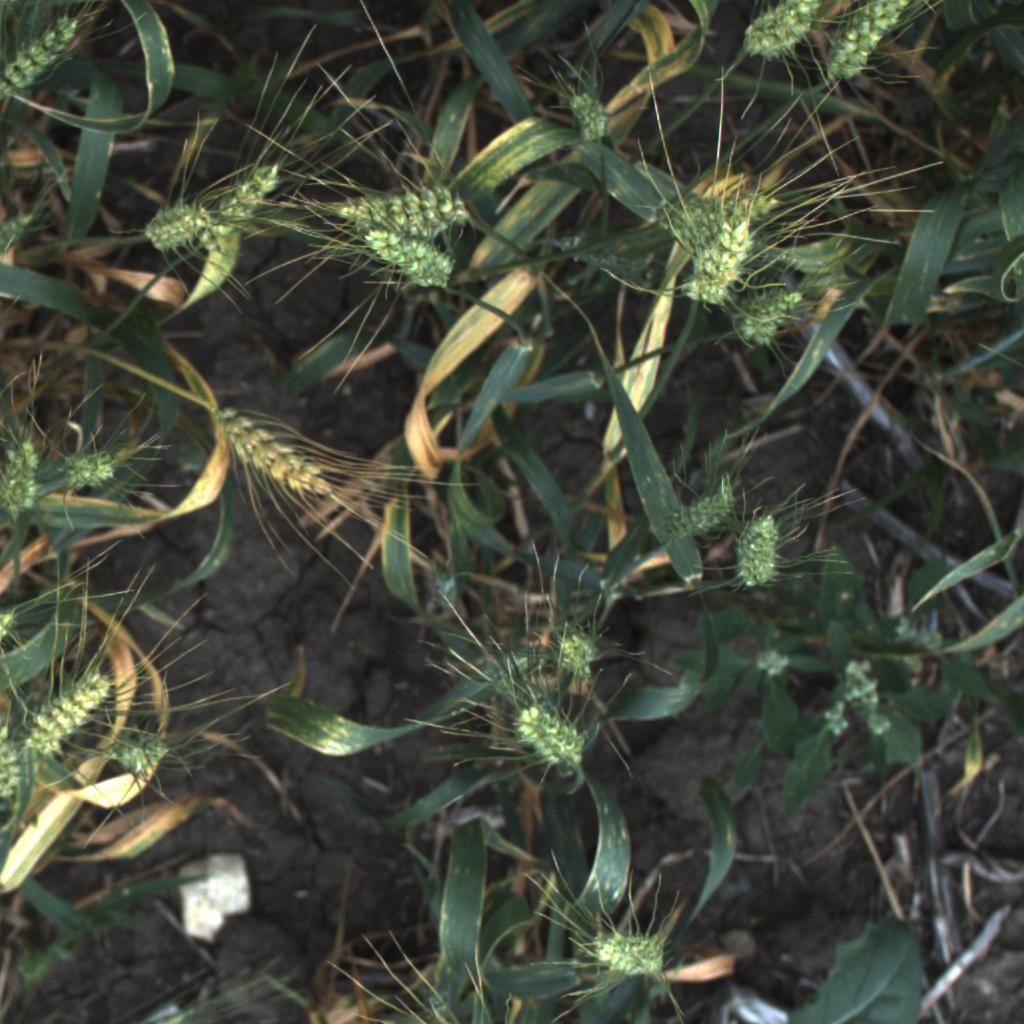0-0: (205, 402, 350, 511), (168, 148, 288, 274), (19, 655, 134, 765), (648, 168, 800, 242), (672, 210, 772, 320), (332, 173, 479, 247), (653, 465, 774, 554), (346, 215, 471, 301), (491, 691, 598, 785), (0, 8, 107, 99), (576, 909, 679, 1002), (811, 0, 920, 85), (724, 491, 796, 601), (131, 185, 232, 260), (727, 274, 822, 353), (727, 0, 829, 68), (544, 614, 631, 692), (51, 432, 136, 510), (555, 79, 634, 159), (2, 407, 43, 553), (105, 721, 175, 790), (0, 686, 35, 814), (0, 592, 23, 655)
